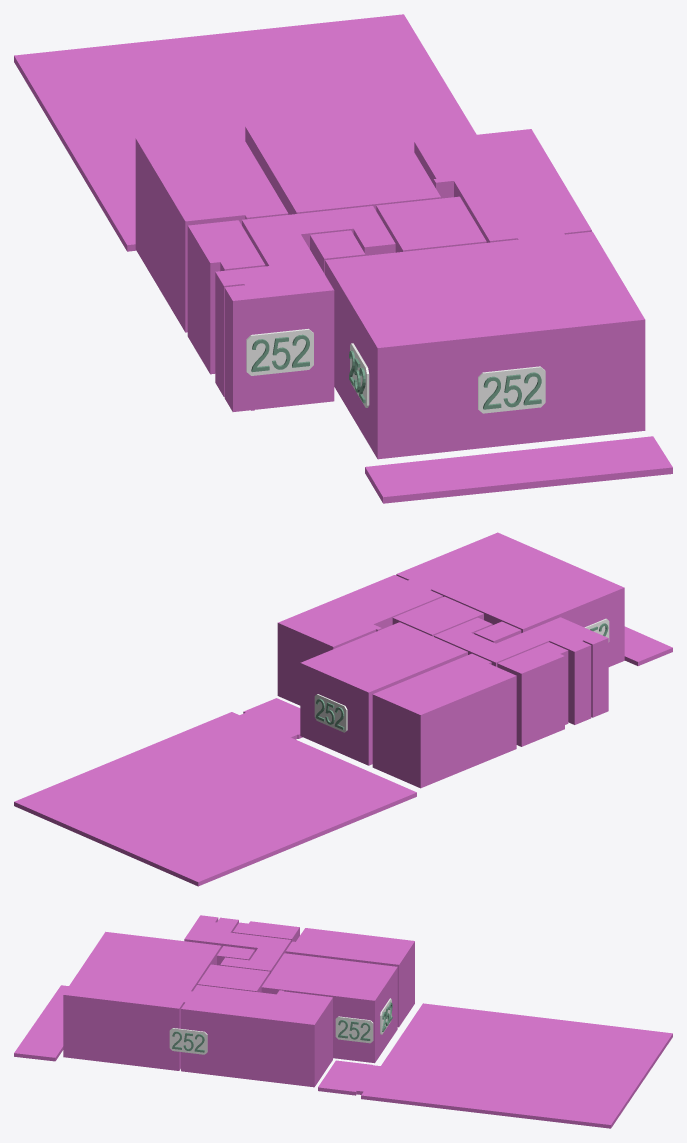
The picture shows the model from 3 angles, top to bottom: view 1: azimuth 30°, elevation 25°; view 2: azimuth 150°, elevation 25°; view 3: azimuth 270°, elevation 25°; orthographic projection. The views are drawn at different scales.
Parts seen in each view (by area): view 1: g_7, g_8, g_5, g_0, g_1, g_2, g_9, g_6, g_3, g_21, g_29, g_4; view 2: g_8, g_0, g_7, g_1, g_2, g_5, g_6, g_3, g_9, g_33, g_4; view 3: g_8, g_7, g_2, g_1, g_0, g_5, g_9, g_3, g_6, g_17, g_25, g_4.
Part boxes in pixels (box(x1,y1,x2,y2)): g_7: box(325, 231, 645, 459); g_8: box(14, 14, 476, 251); g_5: box(215, 206, 395, 411); g_0: box(135, 127, 288, 332); g_1: box(245, 111, 440, 214); g_2: box(414, 129, 591, 242); g_9: box(365, 436, 672, 503); g_6: box(187, 220, 265, 374); g_3: box(376, 196, 486, 252); g_21: box(478, 366, 545, 413); g_29: box(246, 328, 313, 375); g_4: box(310, 230, 365, 274); g_8: box(14, 698, 416, 886); g_0: box(372, 653, 516, 788); g_7: box(396, 532, 624, 666); g_1: box(300, 622, 467, 765); g_2: box(277, 575, 442, 705); g_5: box(434, 617, 608, 724); g_6: box(497, 642, 568, 746); g_3: box(392, 596, 483, 636); g_9: box(624, 626, 672, 665); g_33: box(314, 694, 347, 732); g_4: box(474, 621, 521, 643); g_8: box(318, 1003, 672, 1128); g_7: box(63, 931, 221, 1070); g_2: box(181, 985, 332, 1087); g_1: box(261, 953, 397, 1063); g_0: box(285, 928, 414, 1027); g_5: box(184, 915, 291, 973); g_9: box(14, 985, 68, 1061); g_3: box(197, 964, 269, 992); g_6: box(232, 921, 299, 942); g_17: box(335, 1016, 373, 1043); g_25: box(169, 1028, 207, 1054); g_4: box(217, 946, 254, 965).
Bounding box in the file's own units: 13.01 × 2.74 × 24.64.
